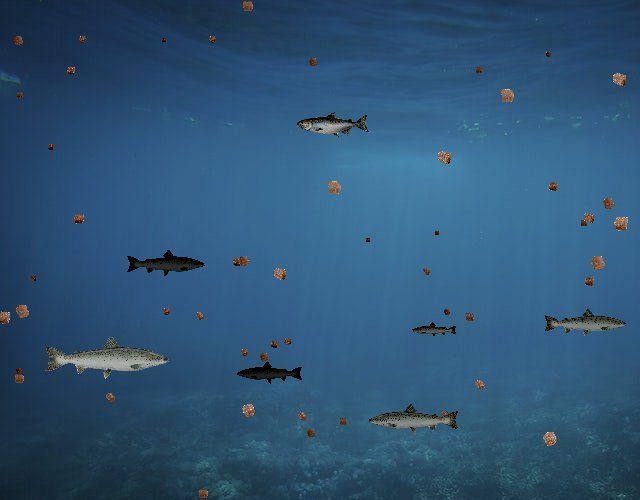Fish: (42, 334, 171, 380), (367, 403, 461, 437), (542, 307, 628, 338), (125, 248, 206, 277), (297, 111, 370, 138), (237, 360, 305, 385), (411, 322, 458, 338)
Pellet: (606, 209, 636, 238), (234, 396, 262, 424), (266, 261, 293, 288), (8, 30, 29, 51), (74, 31, 90, 47), (542, 49, 555, 62), (27, 273, 39, 285)
